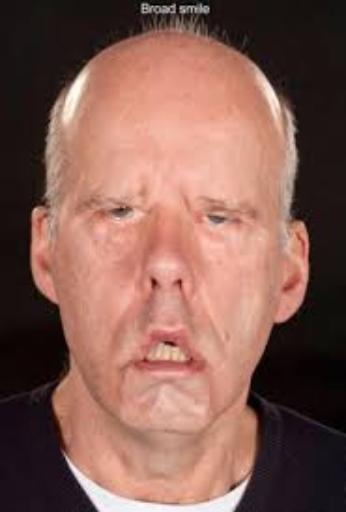left_eye: (195, 212, 251, 234)
left_lip_corner: (190, 352, 212, 373)
right_eye: (95, 201, 146, 226)
right_lip_corner: (123, 353, 145, 373)
